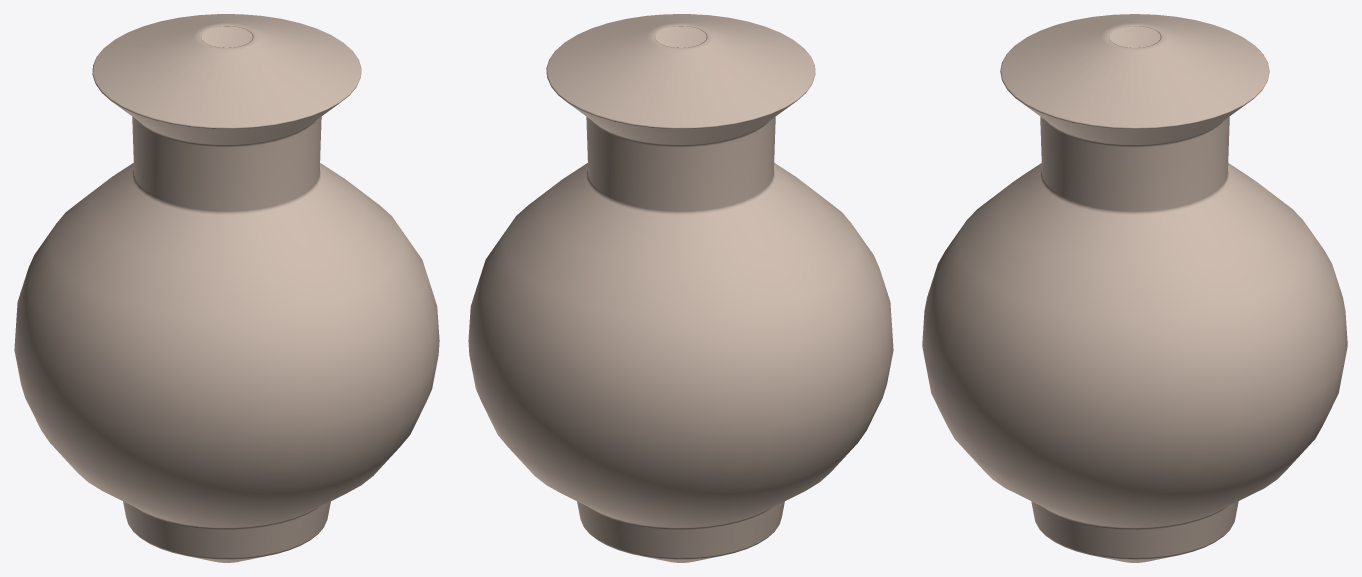
File: sac_porcelaine_spatial_decomposed.glb
The picture shows the model from 3 angles, left to right: view 1: azimuth 30°, elevation 25°; view 2: azimuth 150°, elevation 25°; view 3: azimuth 270°, elevation 25°; orthographic projection.
Visible parts, largest first — view 1: Corps_Vase_Ceramique; view 2: Corps_Vase_Ceramique; view 3: Corps_Vase_Ceramique.
Part boxes in pixels (box(x1,y1,x2,y2)): Corps_Vase_Ceramique: box(14, 14, 439, 562); Corps_Vase_Ceramique: box(468, 14, 893, 562); Corps_Vase_Ceramique: box(922, 14, 1347, 562).
Size of the model in its own units: 0.1874 by 0.25 by 0.1874.
